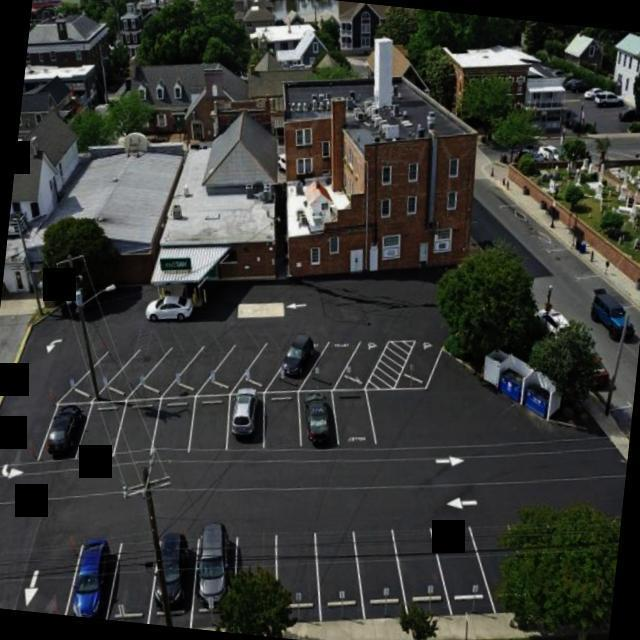car: (142, 522, 210, 629), (187, 528, 251, 634), (58, 534, 122, 620), (30, 392, 94, 476), (220, 382, 274, 467), (272, 328, 334, 402), (292, 378, 344, 466)
free: (342, 514, 421, 628), (266, 514, 336, 639), (305, 516, 380, 631), (220, 522, 292, 638), (431, 510, 505, 622), (387, 517, 460, 625), (100, 532, 173, 626), (69, 398, 134, 479), (254, 386, 308, 474), (181, 387, 237, 469), (148, 388, 201, 471), (112, 389, 164, 469), (326, 385, 380, 461), (302, 334, 362, 402), (340, 333, 392, 397), (396, 332, 449, 394), (217, 334, 271, 393), (179, 338, 231, 396), (244, 338, 292, 398), (112, 347, 164, 402), (73, 349, 127, 398), (152, 344, 194, 396)
